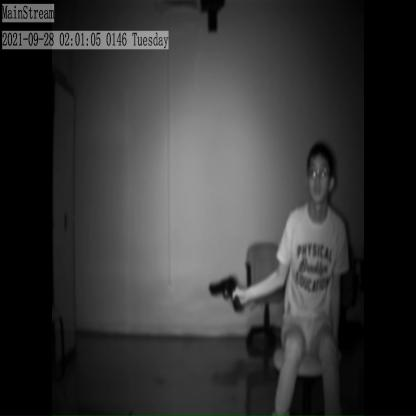weapon: (207, 267, 244, 323)
